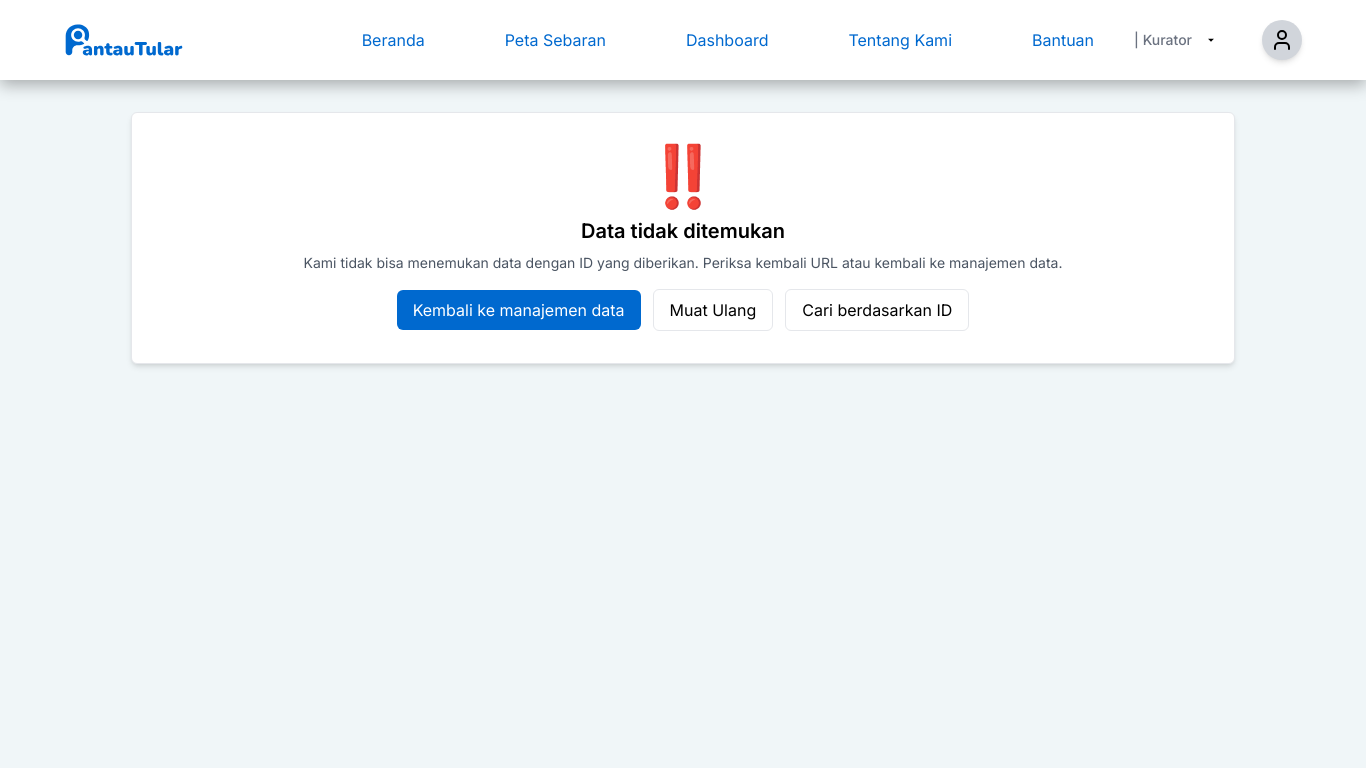
CuratorEditDeleteDataPage › shows notFound when no id present and search modal can be opened
The image size is (1366, 768).
Expected: the heading "Data tidak ditemukan" is shown, [581,219,785,243]
Note: open search modal
Click the button "Cari berdasarkan ID" at x=877, y=310, box [785,289,969,331]
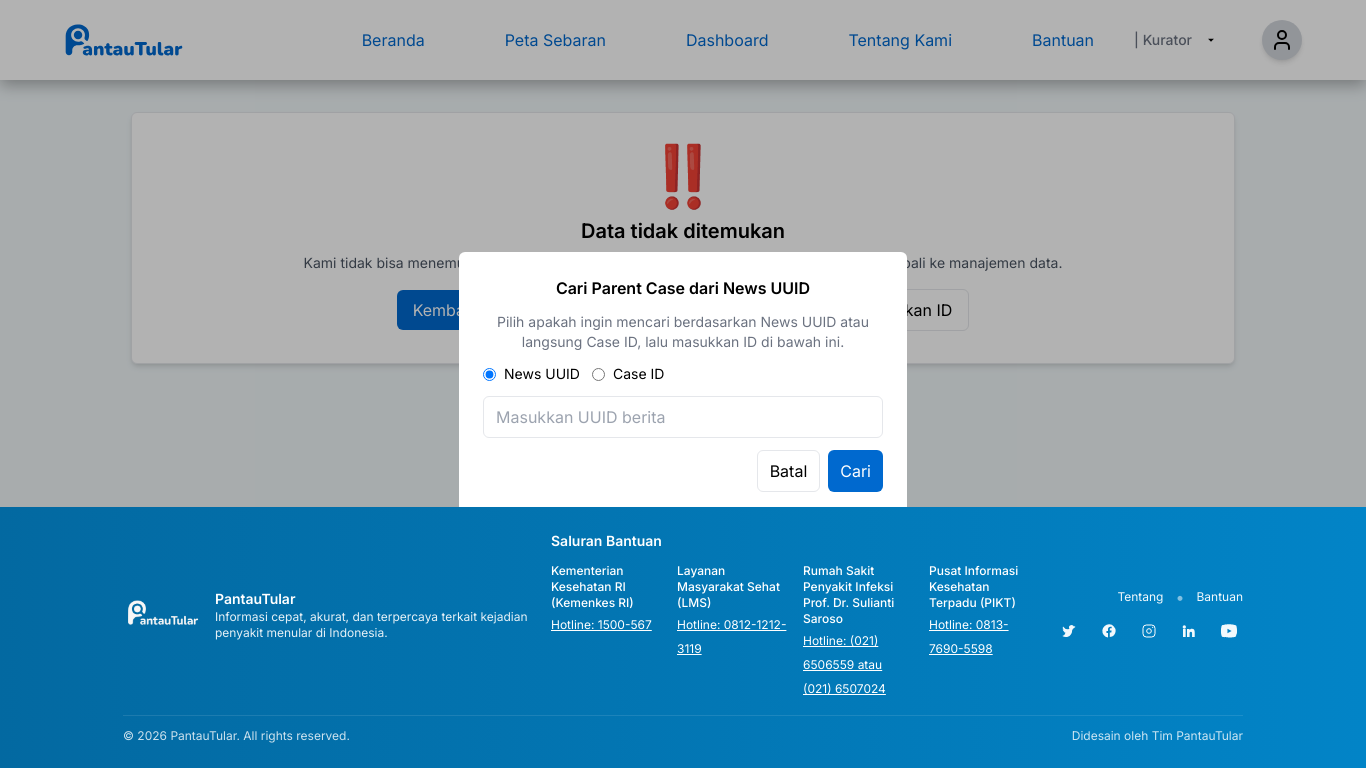
Expected: the heading "Cari Parent Case dari News UUID" is shown, [556,278,810,298]
